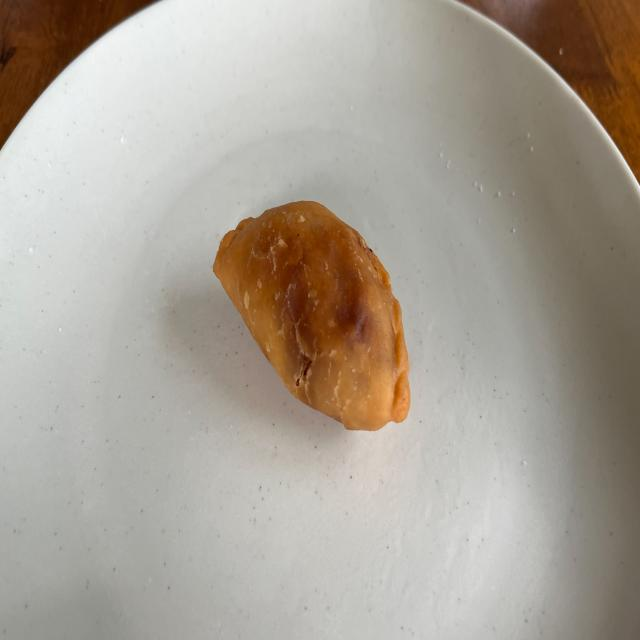karipap: (212, 200, 410, 431)
